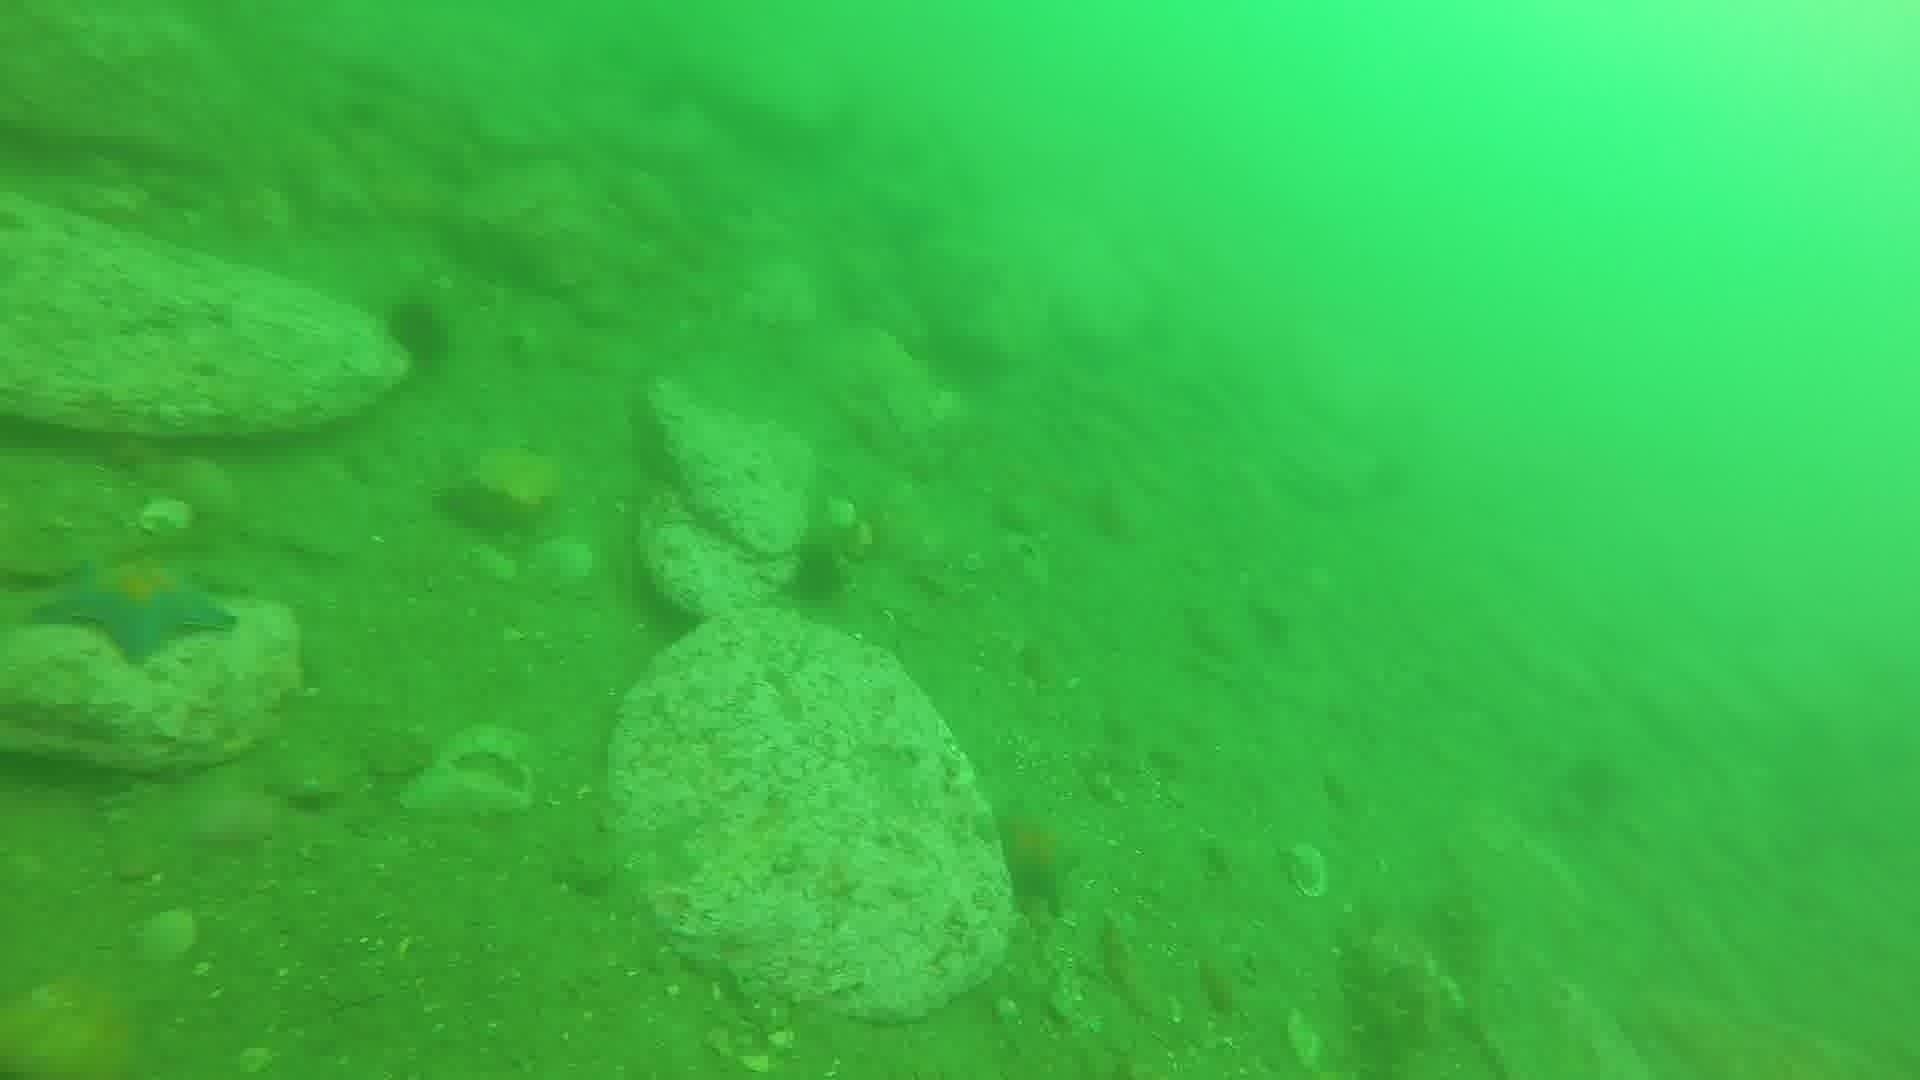echinus: (378, 291, 458, 371), (781, 535, 855, 612), (1557, 749, 1629, 818)
holothurian: (1329, 924, 1437, 1079)
starfish: (32, 553, 243, 667), (984, 795, 1085, 920)
